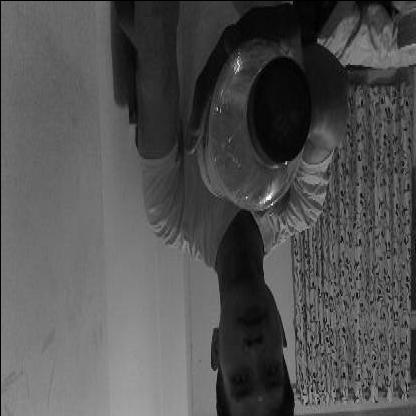plastic_bottles: (193, 44, 311, 202)
